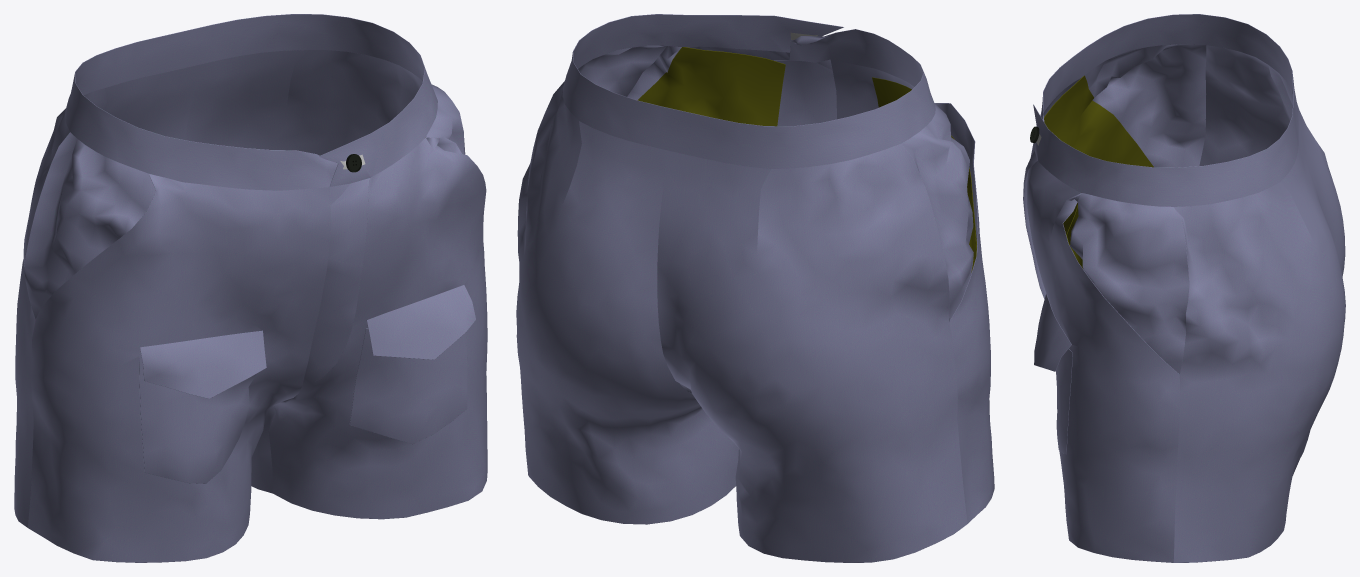
3 renders of one model, left to right at view 1: azimuth 30°, elevation 25°; view 2: azimuth 150°, elevation 25°; view 3: azimuth 270°, elevation 25°, orthographic. The views are drawn at different scales.
Parts seen in each view (by area): view 1: Pattern2D_3956468, Pattern2D_3956717, OPC00WAB4, Pattern2D_3961243, Pattern2D_766543, Pattern2D_3961019, Pattern2D_5340181, Pattern2D_5340182, FLL_3, Pattern2D_5340184, Pattern2D_5340183, Pattern2D_766545; view 2: Pattern2D_3961019, Pattern2D_3961243, OPC00WAB4, Pattern2D_3956468, Pattern2D_766546, Pattern2D_766543, FLF_1, Pattern2D_766545, Pattern2D_5340179, Pattern2D_3956717; view 3: Pattern2D_3961243, Pattern2D_3956717, OPC00WAB4, Pattern2D_766545, Pattern2D_766543, Pattern2D_3961019, Pattern2D_5340179, Pattern2D_5340183, Pattern2D_5340181, FLL_3.
Part boxes in pixels (left/top/right/bottom): Pattern2D_3956468: left=27, top=174, right=331, bottom=562; Pattern2D_3956717: left=269, top=136, right=487, bottom=519; OPC00WAB4: left=65, top=14, right=437, bottom=190; Pattern2D_3961243: left=185, top=50, right=422, bottom=493; Pattern2D_766543: left=24, top=132, right=155, bottom=319; Pattern2D_3961019: left=14, top=64, right=200, bottom=527; Pattern2D_5340181: left=350, top=328, right=467, bottom=444; Pattern2D_5340182: left=139, top=356, right=256, bottom=483; FLL_3: left=302, top=178, right=369, bottom=385; Pattern2D_5340184: left=140, top=330, right=266, bottom=398; Pattern2D_5340183: left=366, top=285, right=475, bottom=359; Pattern2D_766545: left=426, top=84, right=465, bottom=154; Pattern2D_3961019: left=657, top=144, right=967, bottom=562; Pattern2D_3961243: left=516, top=65, right=738, bottom=524; OPC00WAB4: left=562, top=14, right=935, bottom=168; Pattern2D_3956468: left=831, top=59, right=994, bottom=523; Pattern2D_766546: left=637, top=47, right=785, bottom=126; Pattern2D_766543: left=901, top=103, right=973, bottom=321; FLF_1: left=774, top=59, right=836, bottom=126; Pattern2D_766545: left=579, top=45, right=681, bottom=100; Pattern2D_5340179: left=872, top=77, right=974, bottom=272; Pattern2D_3956717: left=686, top=46, right=789, bottom=60; Pattern2D_3961243: left=1173, top=138, right=1345, bottom=562; Pattern2D_3956717: left=1026, top=143, right=1180, bottom=562; OPC00WAB4: left=1033, top=14, right=1298, bottom=206; Pattern2D_766545: left=1070, top=193, right=1189, bottom=374; Pattern2D_766543: left=1085, top=44, right=1206, bottom=167; Pattern2D_3961019: left=1199, top=45, right=1345, bottom=276; Pattern2D_5340179: left=1044, top=75, right=1153, bottom=167; Pattern2D_5340183: left=1034, top=293, right=1071, bottom=371; Pattern2D_5340181: left=1056, top=349, right=1072, bottom=454; FLL_3: left=1023, top=151, right=1046, bottom=299.
Size of the model in its own units: 41.57 by 40.17 by 29.4.
